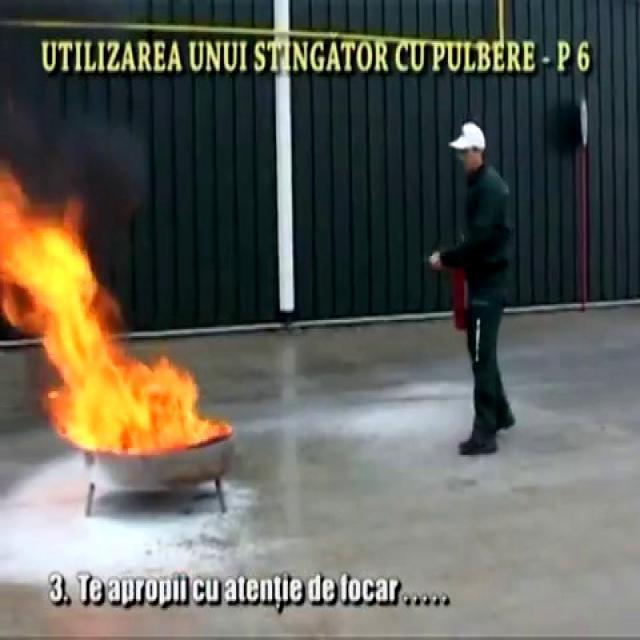Fire: (0, 190, 201, 444)
Smoke: (0, 0, 143, 235)
